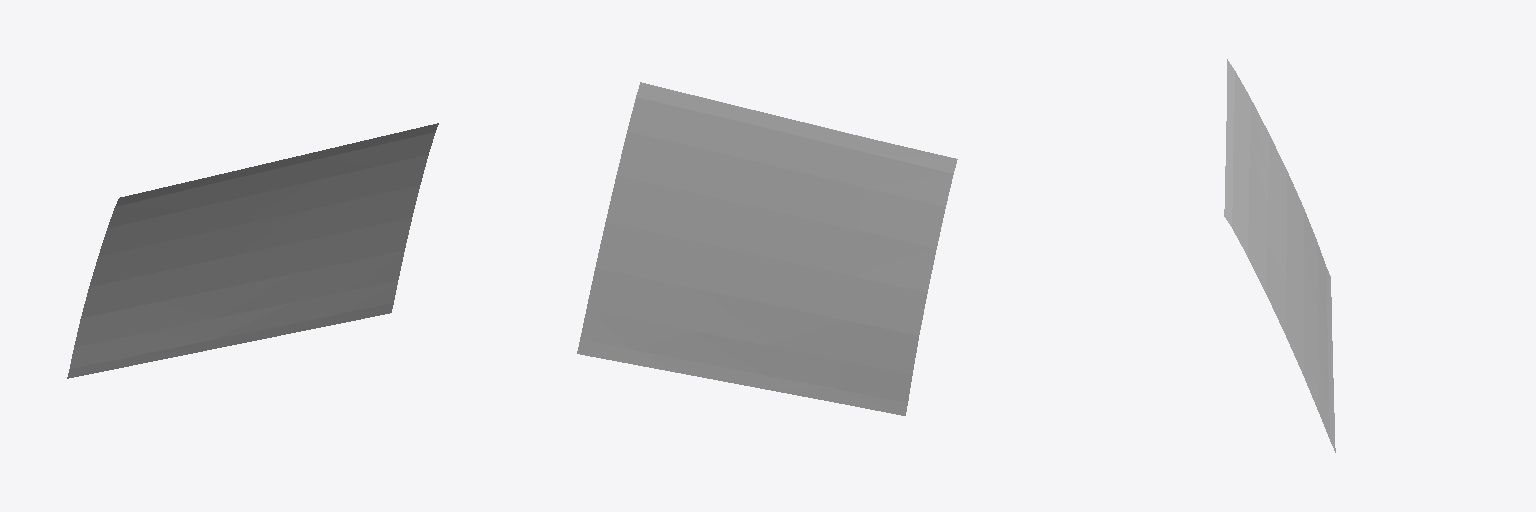
3 views of the same model, side by side, from view 1: azimuth 30°, elevation 25°; view 2: azimuth 150°, elevation 25°; view 3: azimuth 270°, elevation 25° (orthographic).
Parts seen in each view (by area): view 1: P740_305B_L_DTaSI_P740_305B_L; view 2: P740_305B_L_DTaSI_P740_305B_L; view 3: P740_305B_L_DTaSI_P740_305B_L.
Boxes of the visible parts, x1,y1,x2,y2 form: P740_305B_L_DTaSI_P740_305B_L: [67, 123, 438, 378]; P740_305B_L_DTaSI_P740_305B_L: [577, 82, 957, 415]; P740_305B_L_DTaSI_P740_305B_L: [1224, 59, 1335, 452].
Size of the model in its own units: 65.5 by 45.01 by 19.33.